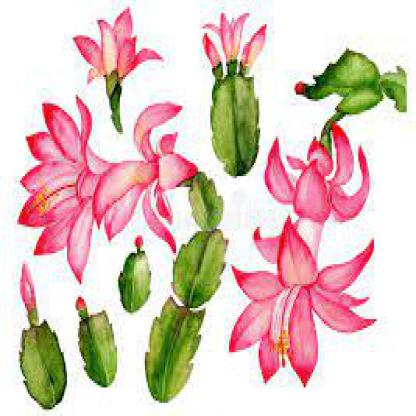Aglonema: (19, 62, 377, 240), (35, 3, 343, 79)
